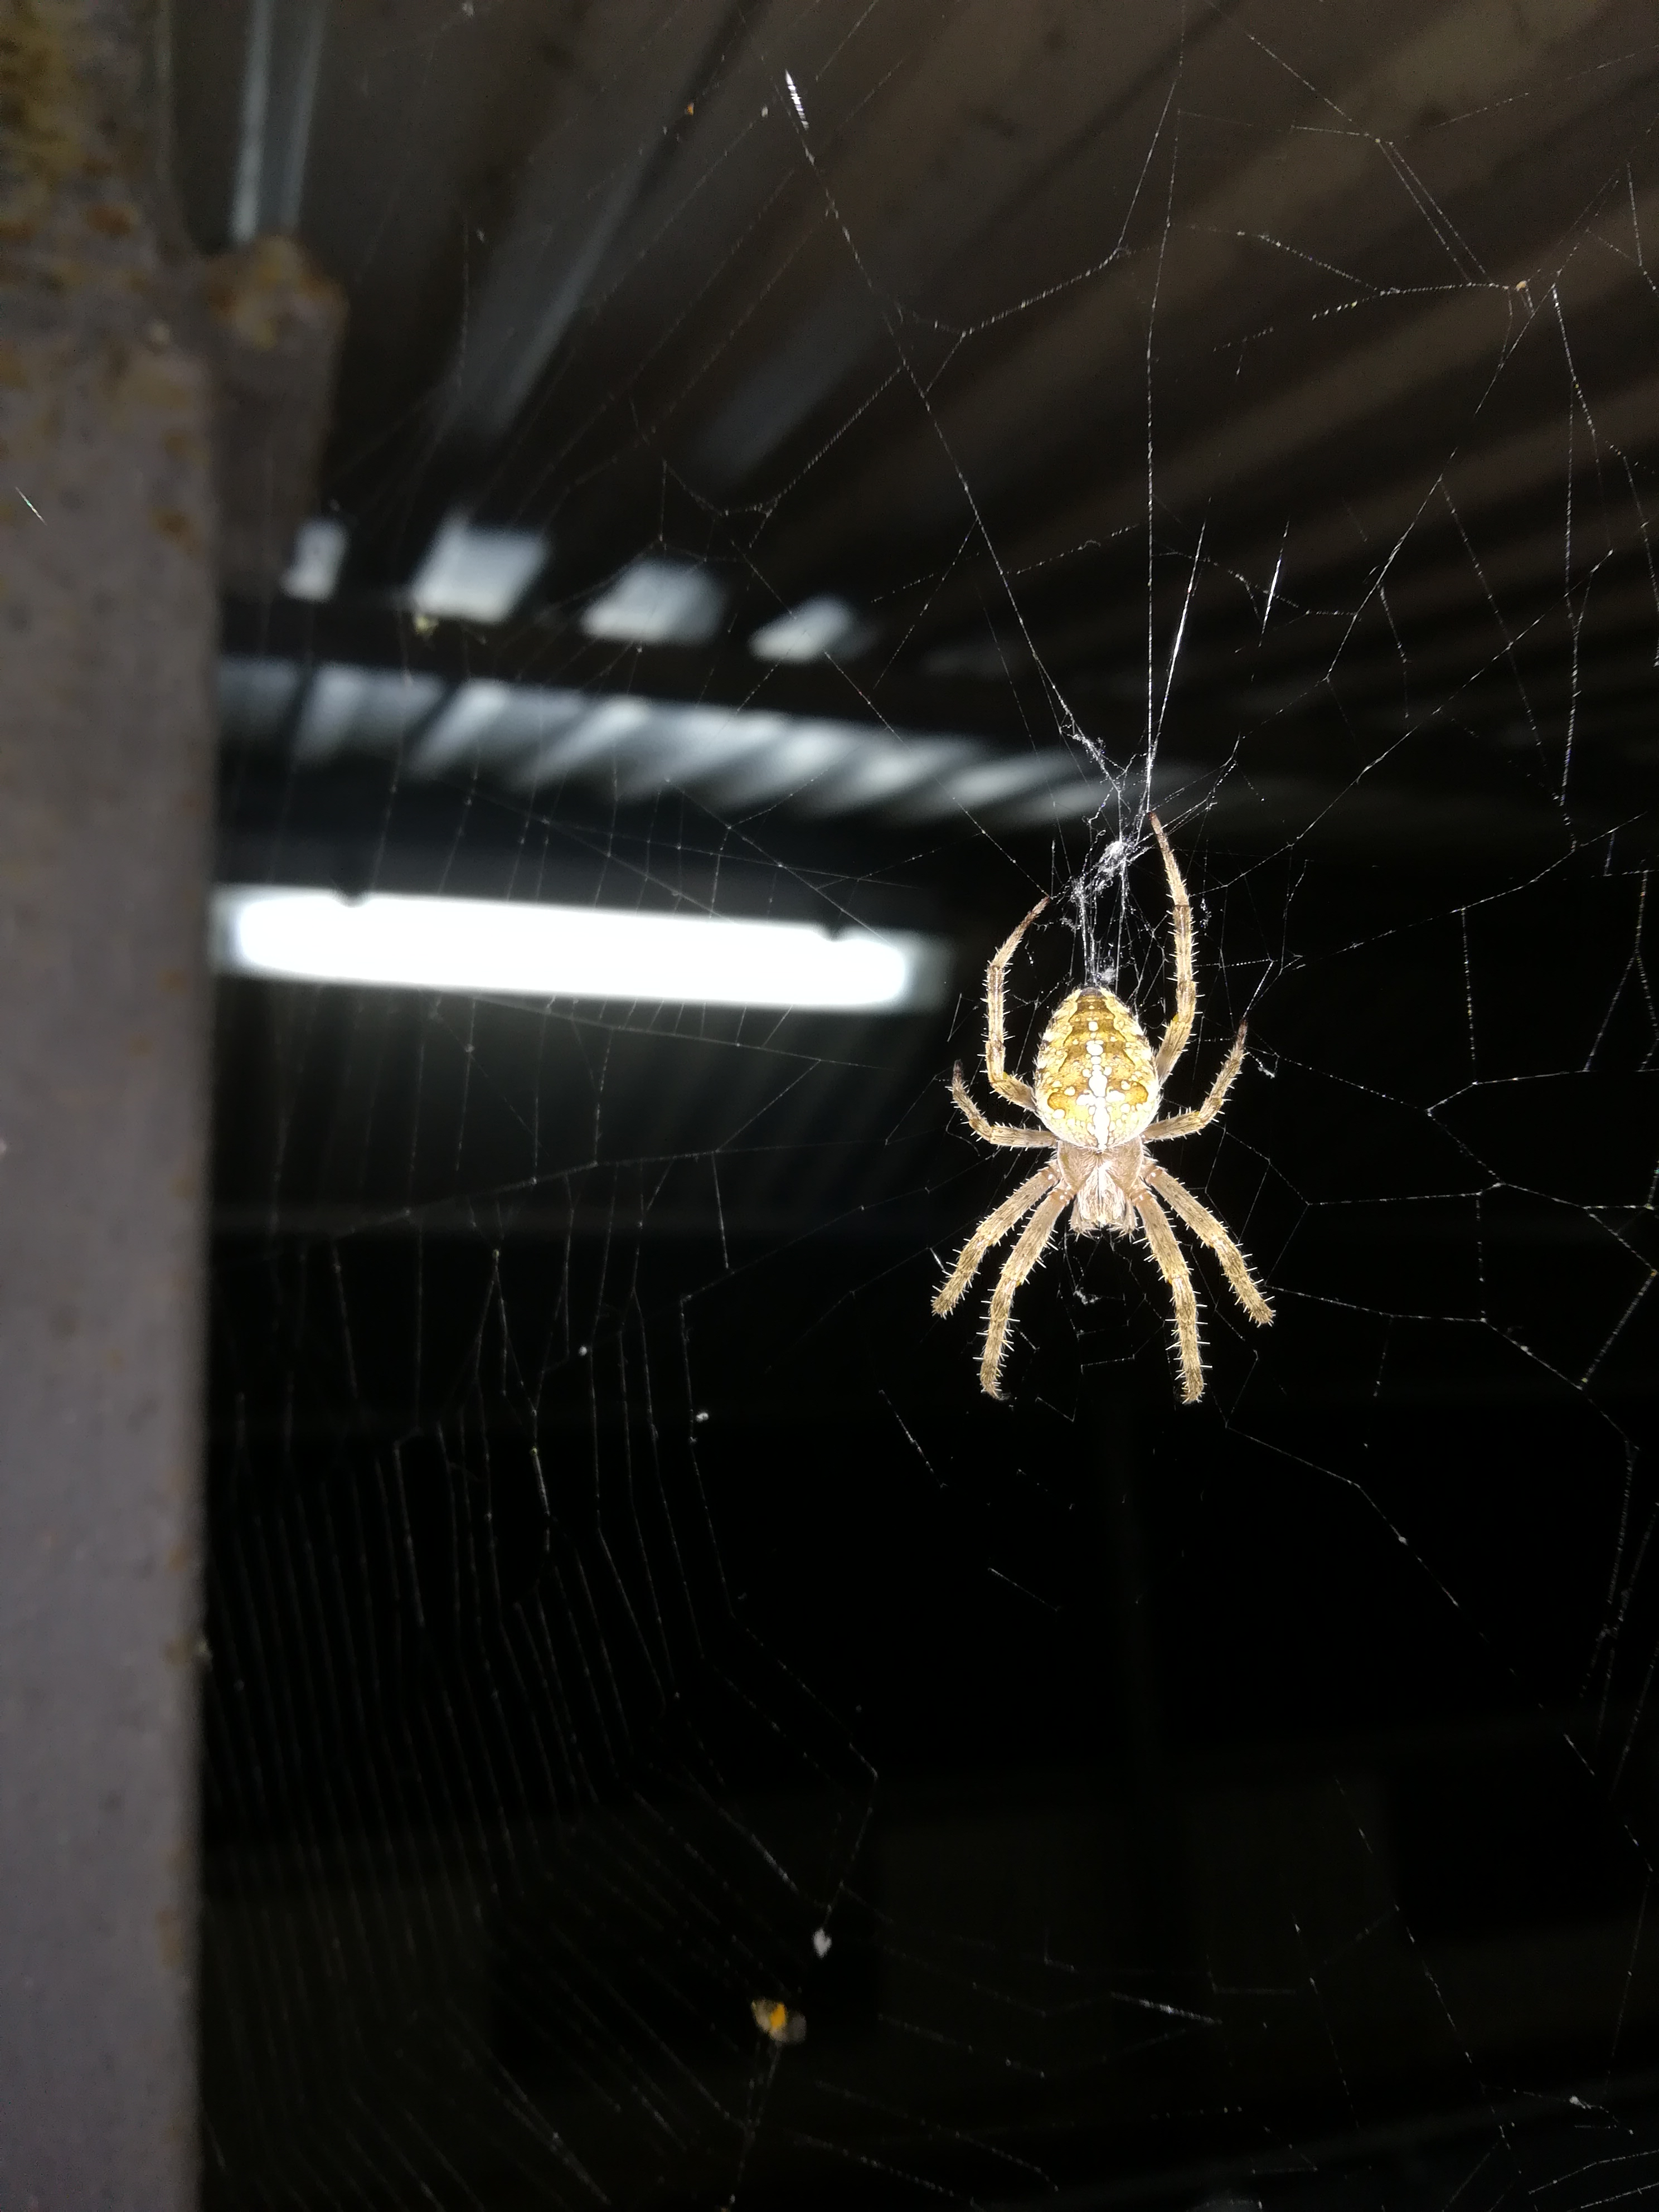spider: (835, 765, 1335, 1460)
